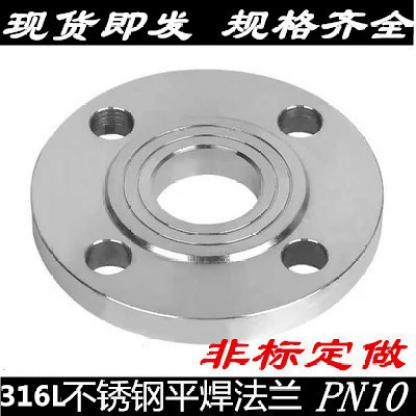FOD: (29, 63, 390, 347)
